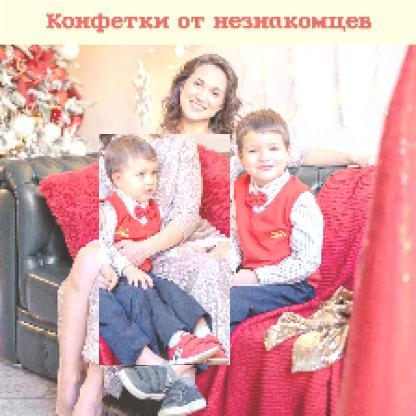child: (118, 107, 328, 416), (101, 135, 233, 367)
